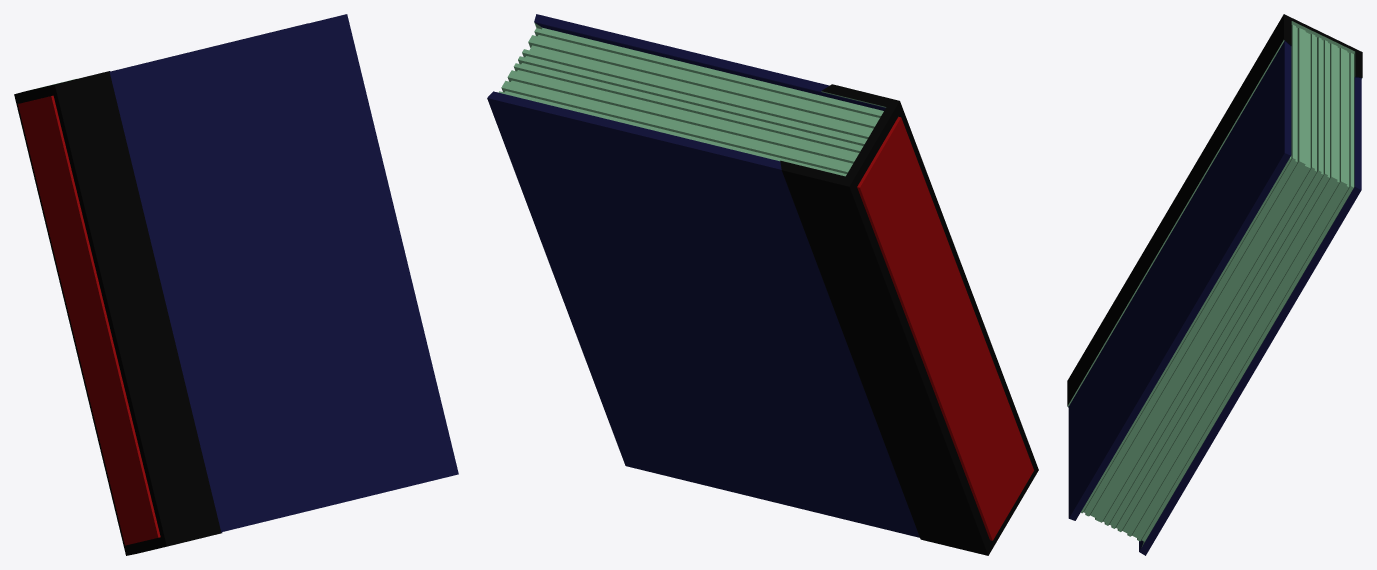
The model's file is DeskBook7.fbx.
The picture shows the model from 3 angles, left to right: view 1: azimuth 30°, elevation 25°; view 2: azimuth 150°, elevation 25°; view 3: azimuth 270°, elevation 25°; orthographic projection. The views are drawn at different scales.
Visible parts, largest first — view 1: Book.001; view 2: Book.001; view 3: Book.001.
Part boxes in pixels (x1,y1,x2,y2): Book.001: (14, 14, 458, 555); Book.001: (487, 14, 1038, 555); Book.001: (1067, 14, 1362, 555).
Size of the model in its own units: 128 by 174 by 115.
